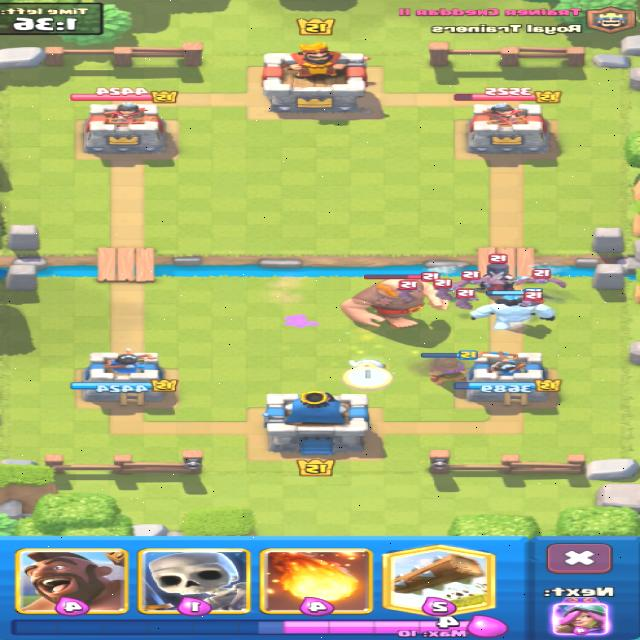Enemy-Bat: (452, 271, 503, 290), (514, 269, 566, 287), (434, 278, 466, 301), (457, 288, 477, 309), (398, 282, 417, 301), (523, 288, 543, 306)
Enemy-Giant: (342, 279, 447, 327)
Enemy-KingTower: (263, 41, 368, 112)
Enemy-NightWitch: (487, 263, 516, 288)
Enemy-PrincessTower: (86, 102, 166, 159), (468, 105, 549, 153)
Player-IceGolem: (472, 297, 554, 329)
Player-KingTower: (264, 391, 369, 455)
Player-Musketeer: (430, 357, 466, 385)
Player-PrincessTower: (456, 352, 561, 408), (73, 350, 166, 404)
